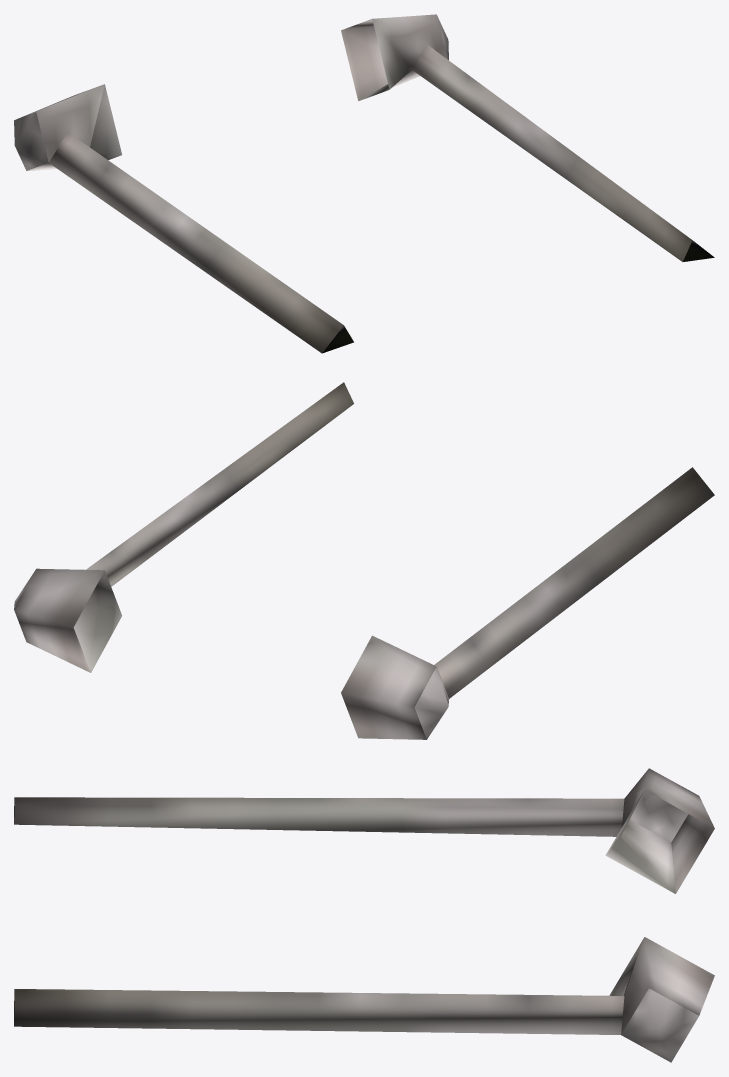
File: corellian_corvette_turret_large_weapon_s01_l3.fbx
3 views of the same model, one above another, from view 1: azimuth 30°, elevation 25°; view 2: azimuth 150°, elevation 25°; view 3: azimuth 270°, elevation 25° (orthographic). The views are drawn at different scales.
Parts seen in each view (by area): view 1: mesh_node; view 2: mesh_node; view 3: mesh_node.
Part boxes in pixels (x1,y1,x2,y2): mesh_node: (14, 14, 714, 353); mesh_node: (14, 382, 714, 739); mesh_node: (14, 768, 714, 1062).
Size of the model in its own units: 9.35 by 1.91 by 11.63.
